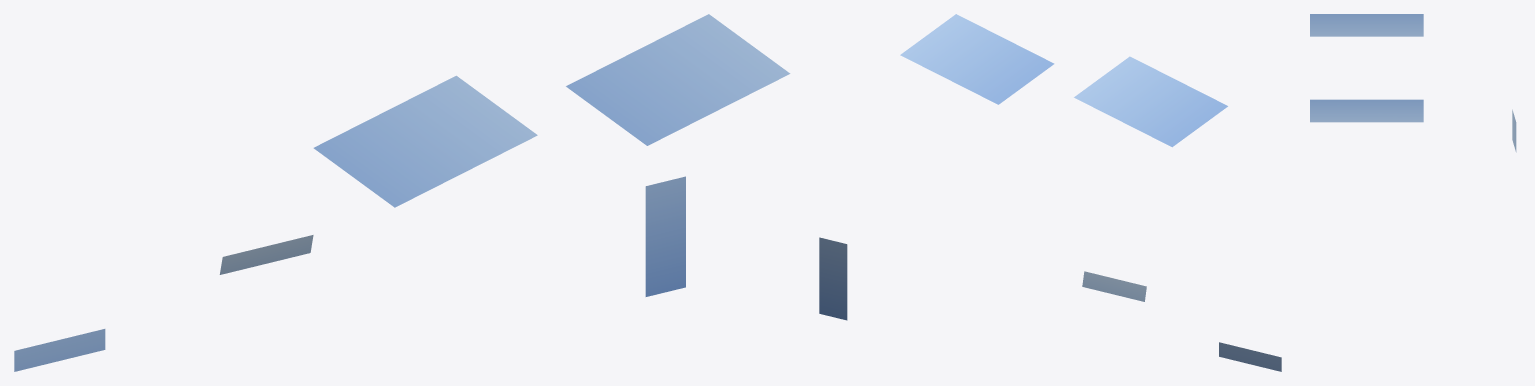
Rendered from 044_2_3_building-p_1.glb.
The picture shows the model from 3 angles, left to right: view 1: azimuth 30°, elevation 25°; view 2: azimuth 150°, elevation 25°; view 3: azimuth 270°, elevation 25°; orthographic projection. The views are drawn at different scales.
Visible parts, largest first — view 1: 2_3_building-p_1; view 2: 2_3_building-p_1; view 3: 2_3_building-p_1.
Part boxes in pixels (x1,y1,x2,y2): 2_3_building-p_1: (14,14,790,371); 2_3_building-p_1: (819,14,1281,371); 2_3_building-p_1: (1310,14,1516,152).
Size of the model in its own units: 1.33 by 0.636 by 0.52.
Materials: 1 (1 with a texture image).
